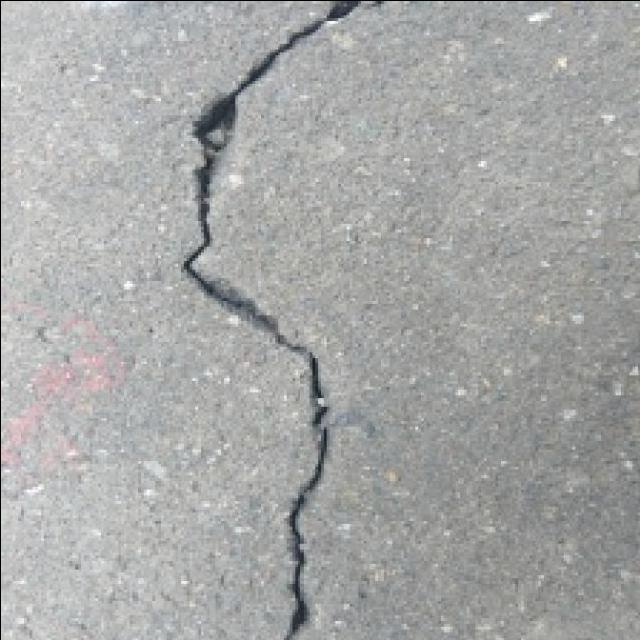SurfaceCrack: (178, 0, 380, 640)
